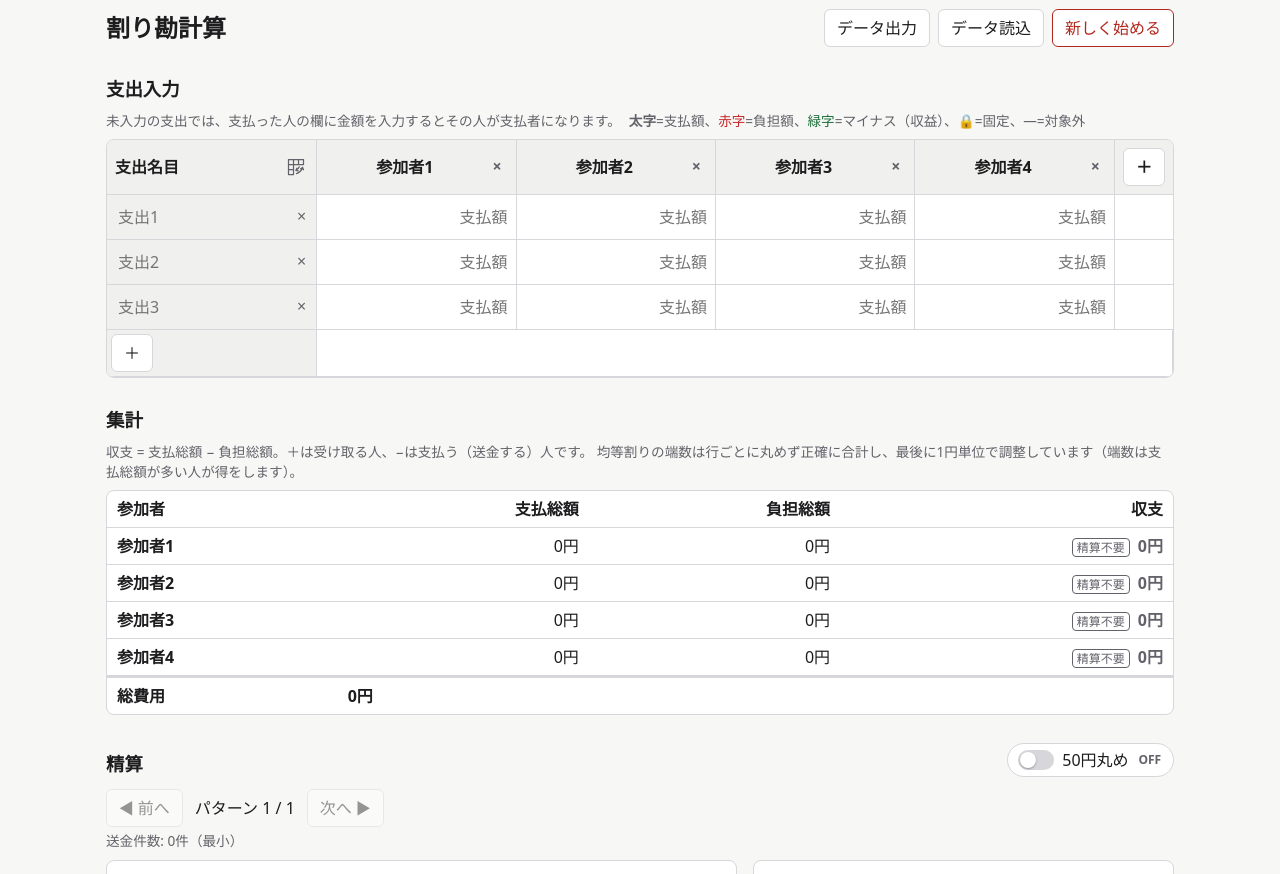
Test: App › No.12: 複数パターンを循環
The image size is (1280, 874).
Step 1. Type "2000" into the 1st field with placeholder "支払額" → (416, 217), box top-left (317, 195), bottom-right (516, 239)
Then press Enter
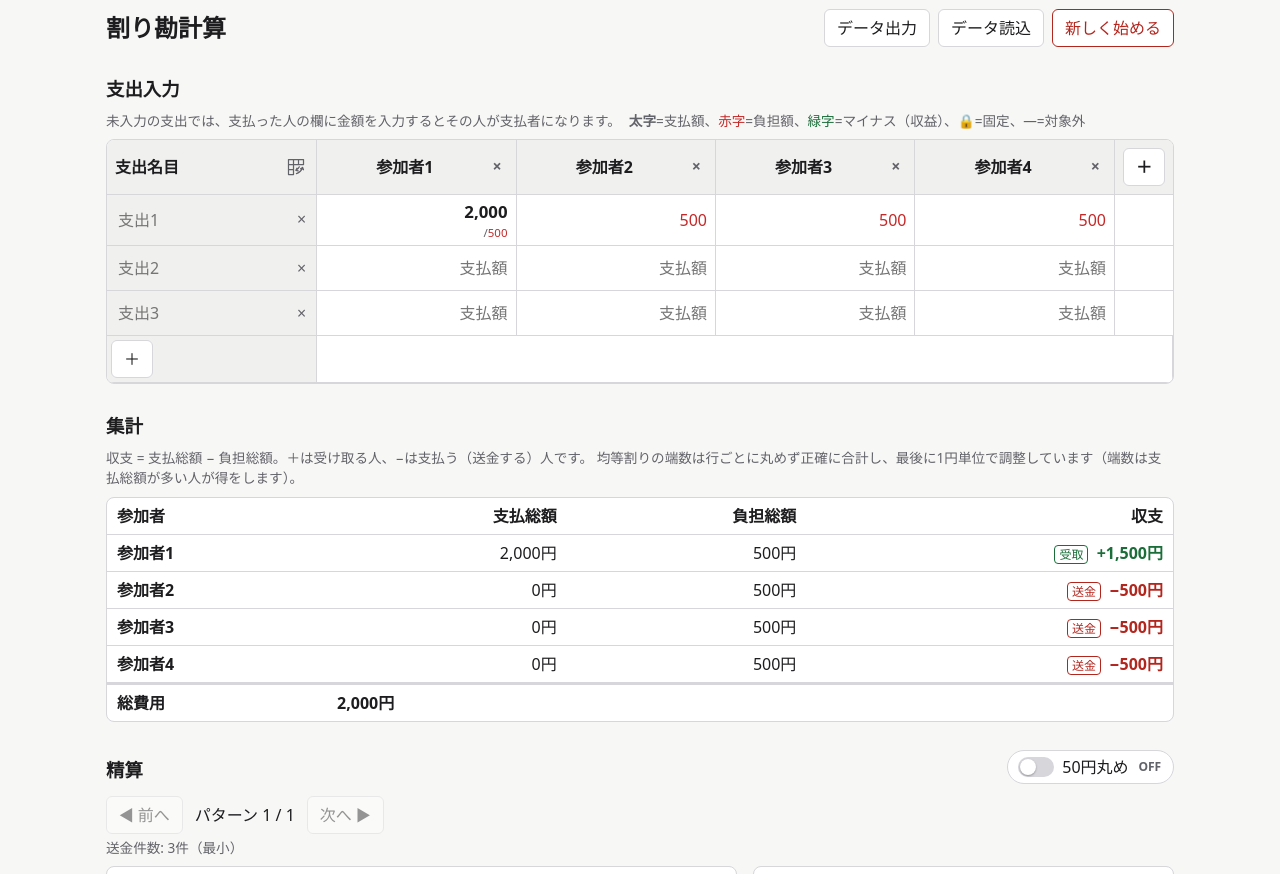
Step 2. Type "2000" into the 2nd field with placeholder "支払額" → (616, 268), box top-left (516, 246), bottom-right (715, 290)
Then press Enter
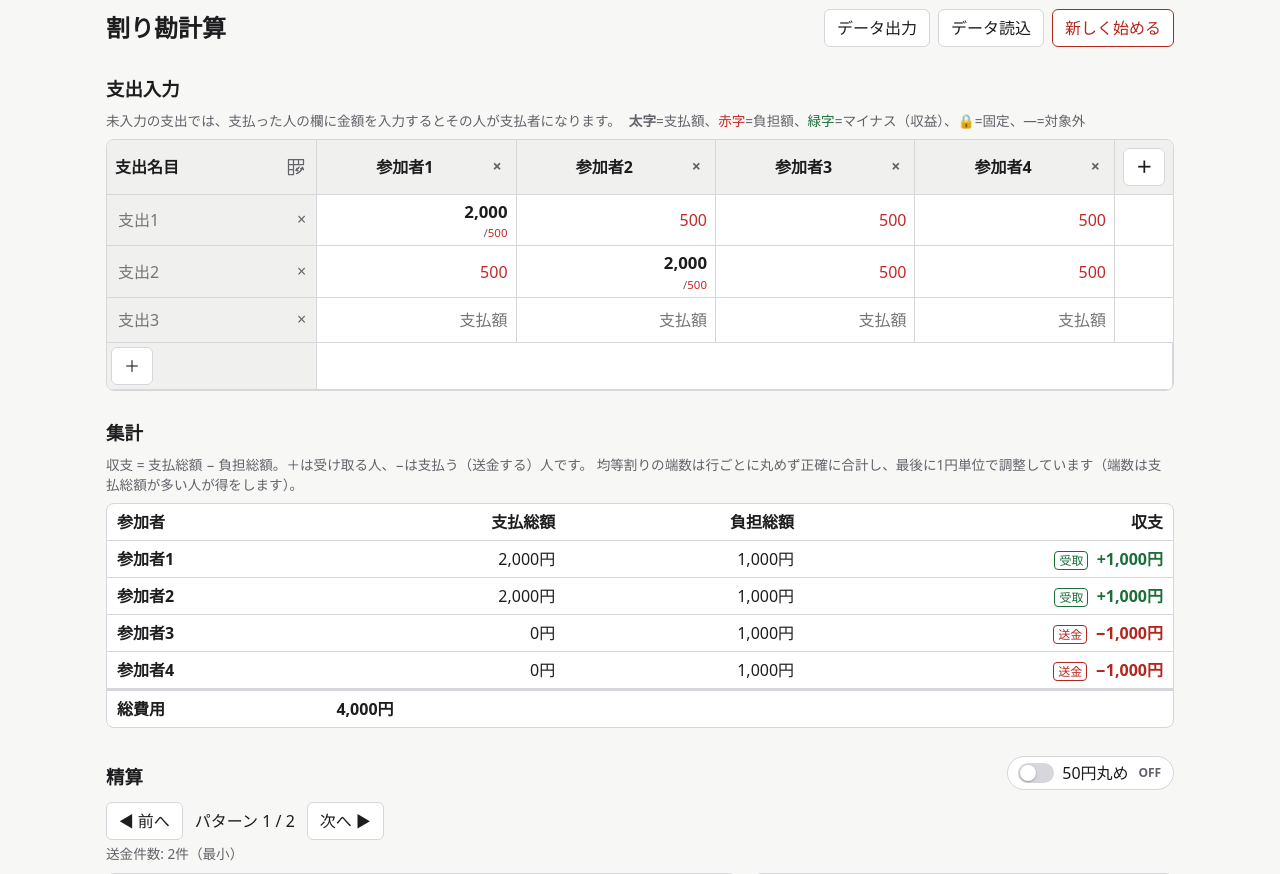
Expected: the text "パターン 1 / 2" is shown, top-left (195, 809), bottom-right (295, 833)
Step 3. Click the button with aria-label "次のパターン" → (345, 821), box top-left (307, 802), bottom-right (384, 840)
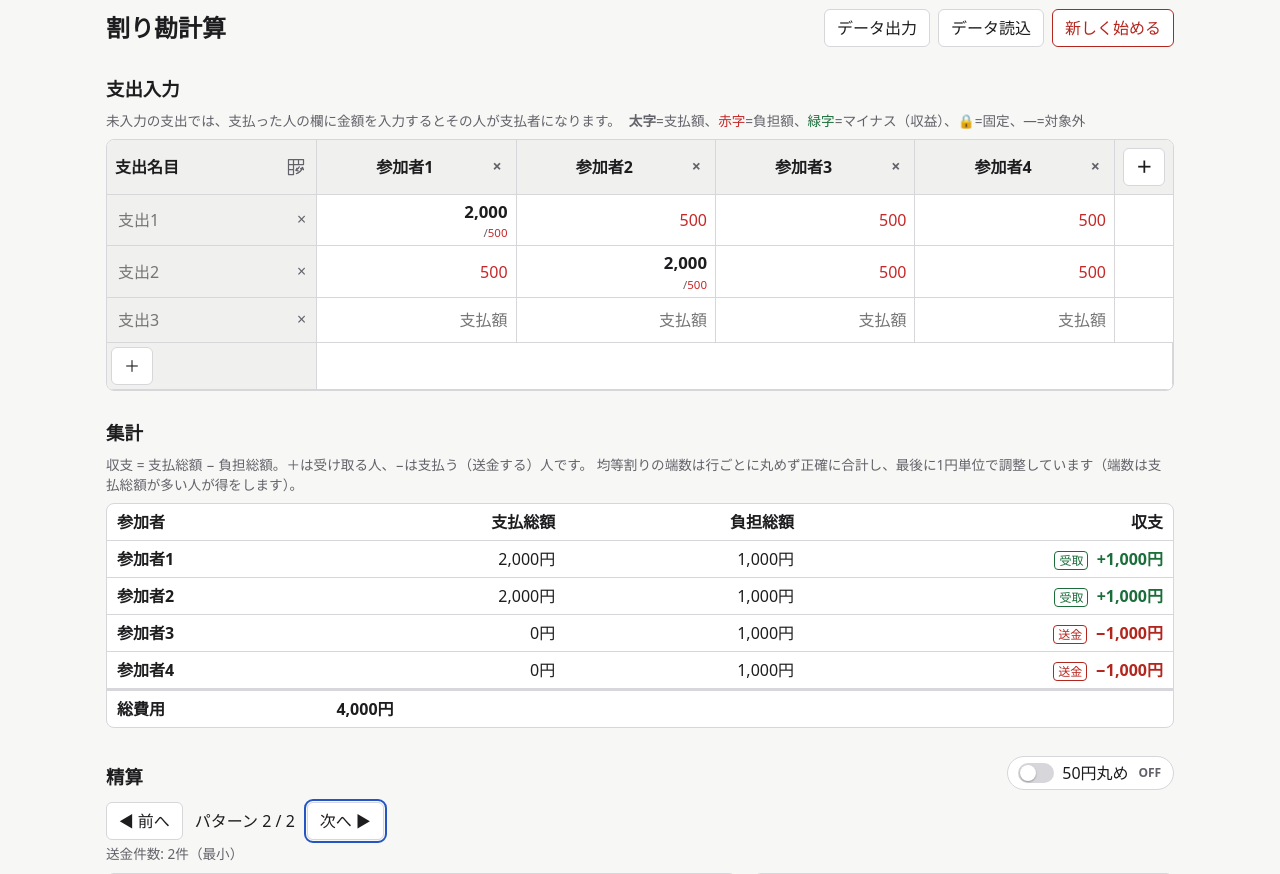
Expected: the text "パターン 2 / 2" is shown, top-left (195, 809), bottom-right (295, 833)
Step 4. Click the button with aria-label "次のパターン" → (345, 821), box top-left (307, 802), bottom-right (384, 840)
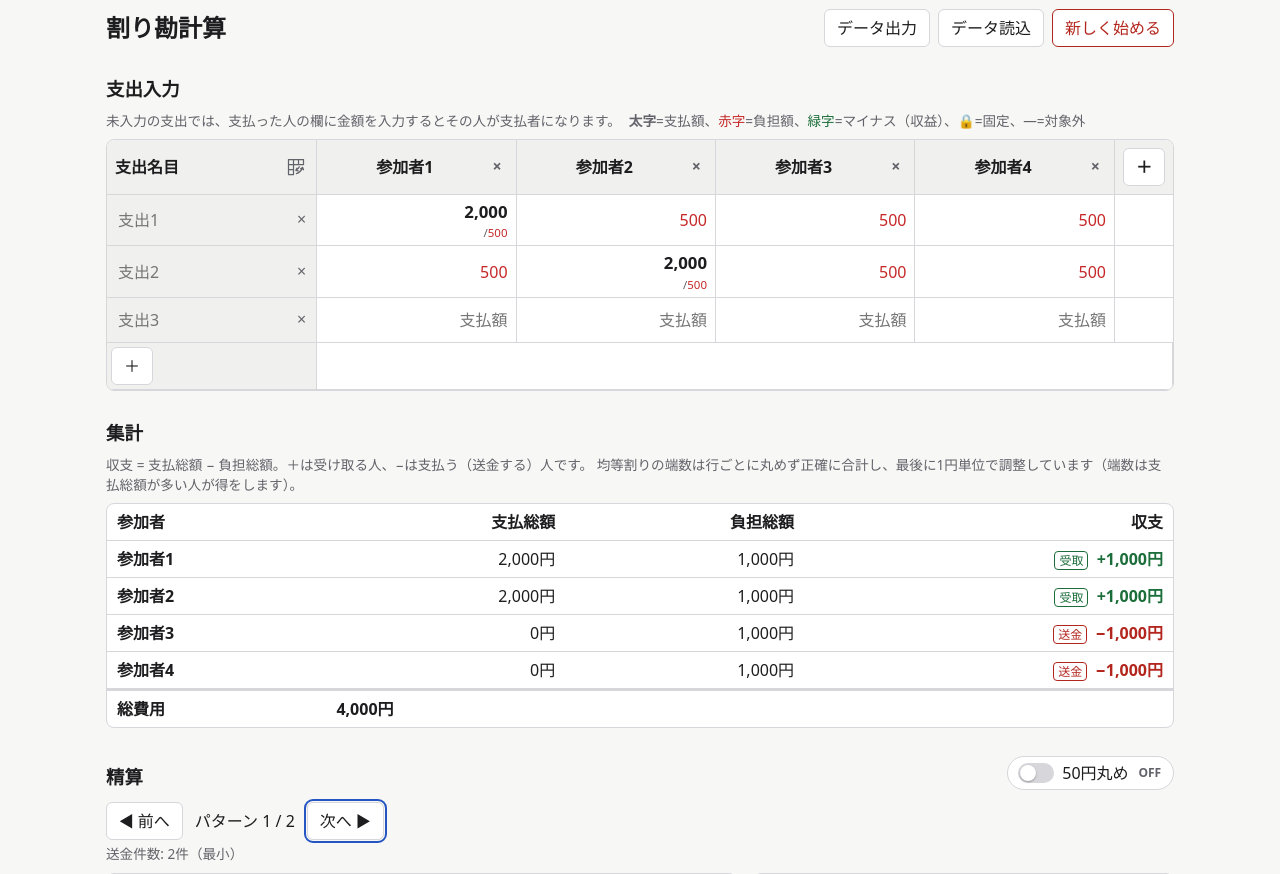
Expected: the text "パターン 1 / 2" is shown, top-left (195, 809), bottom-right (295, 833)
Step 5. Click the button with aria-label "前のパターン" → (144, 821), box top-left (106, 802), bottom-right (183, 840)
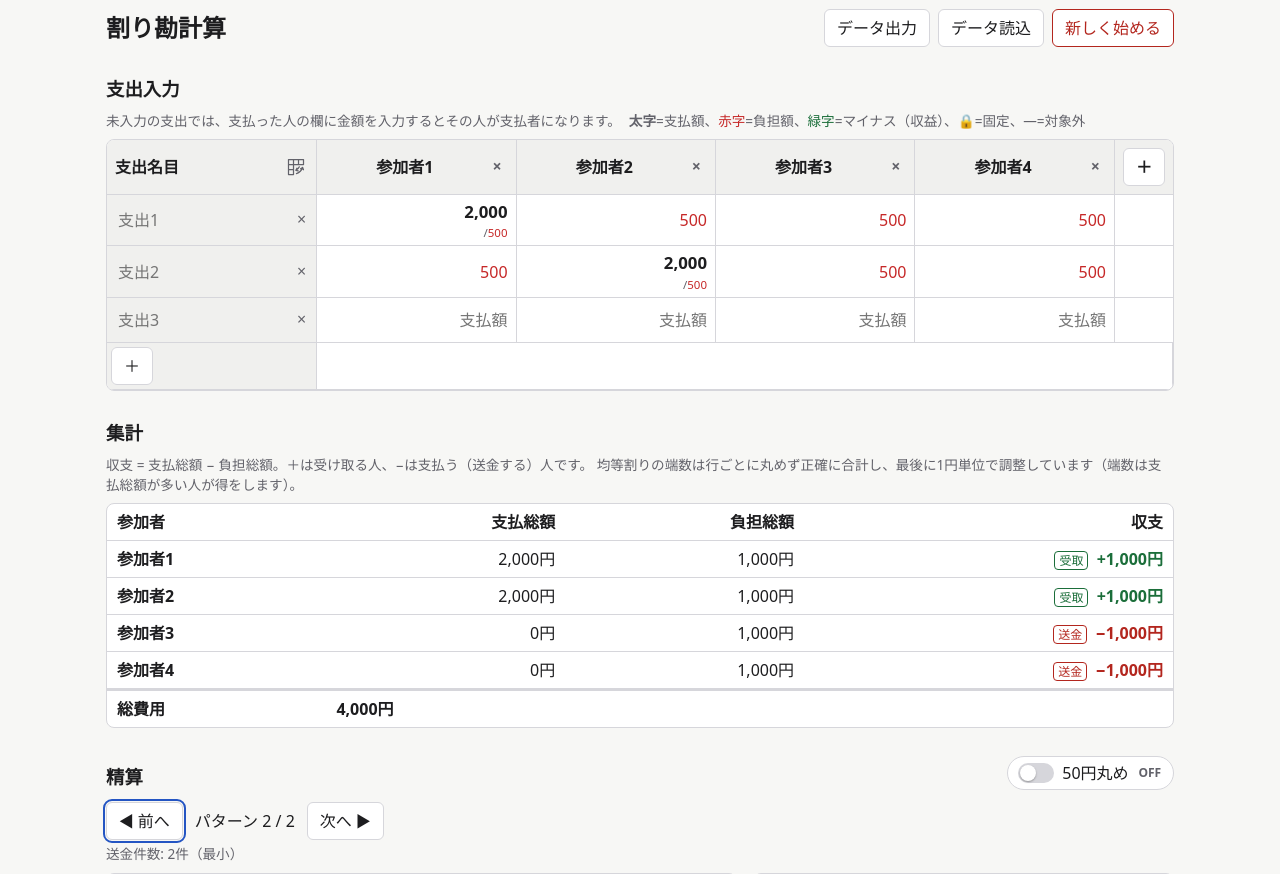
Expected: the text "パターン 2 / 2" is shown, top-left (195, 809), bottom-right (295, 833)
Step 6. Click the switch labelled "50円丸め" → (1091, 773), box top-left (1007, 756), bottom-right (1174, 790)
(page scrolled)
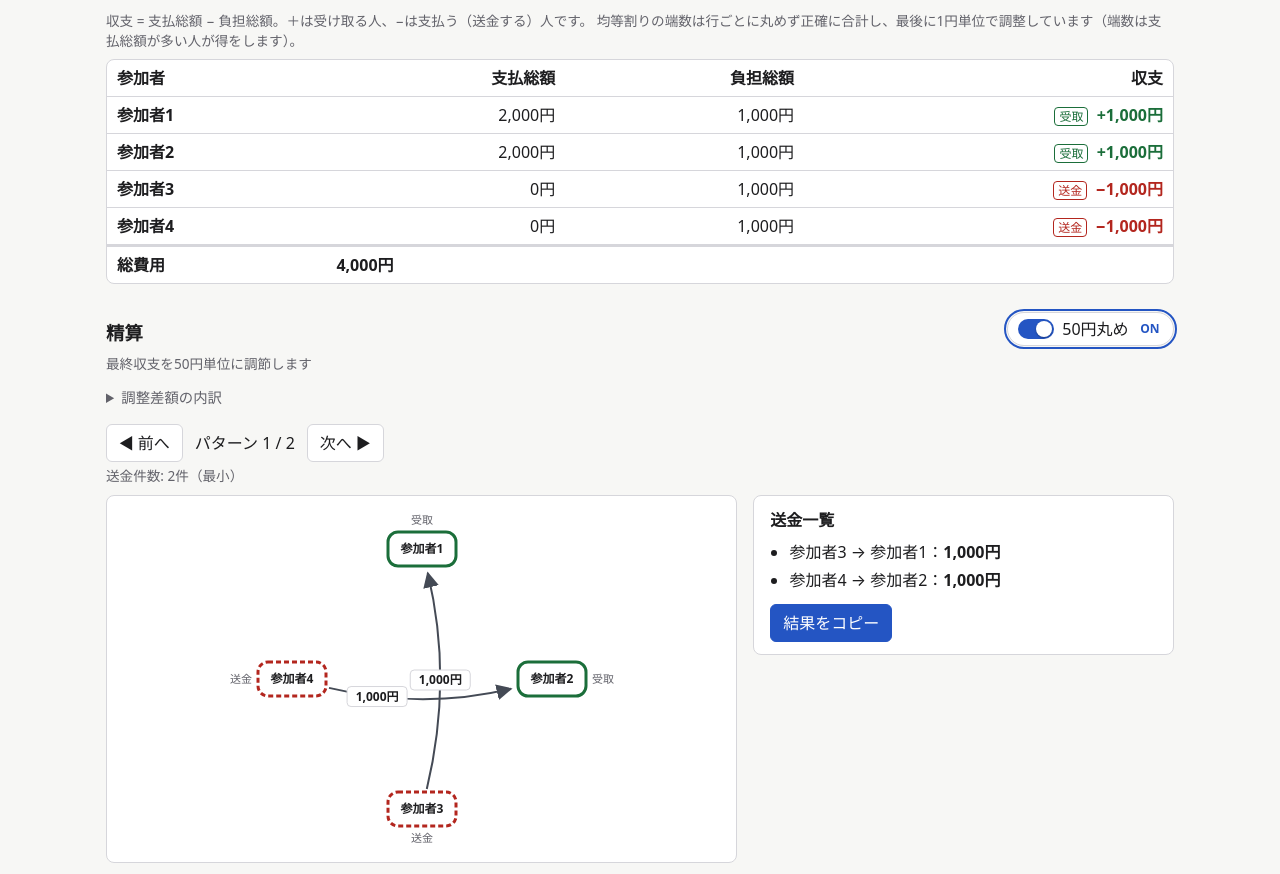
Expected: the text "パターン 1 / 2" is shown, top-left (195, 431), bottom-right (295, 455)
